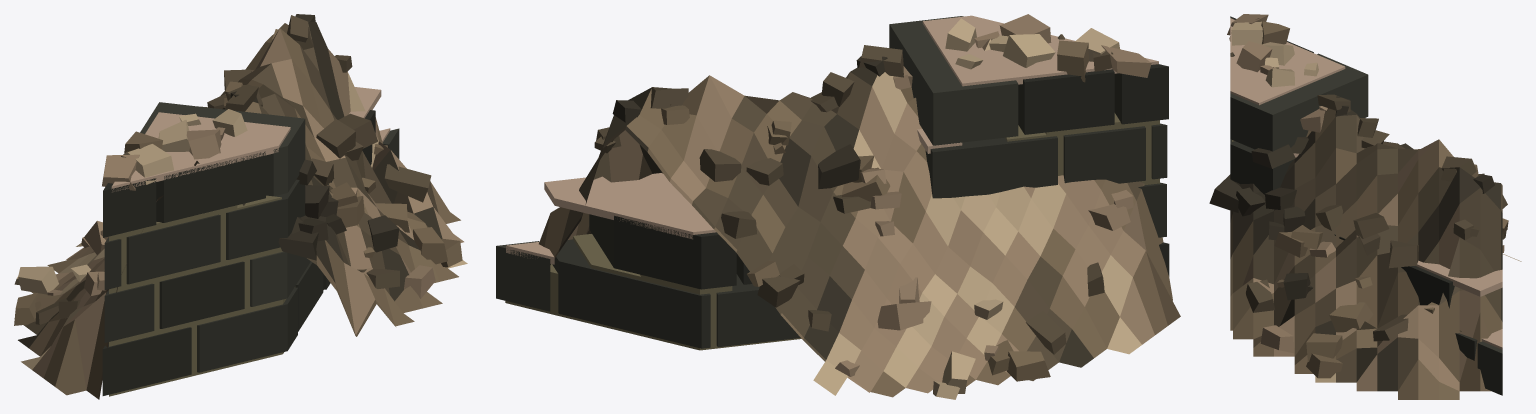
File: AraWall05a.glb
3 renders of one model, left to right at view 1: azimuth 30°, elevation 25°; view 2: azimuth 150°, elevation 25°; view 3: azimuth 270°, elevation 25°, orthographic. The views are drawn at different scales.
Parts seen in each view (by area): view 1: AraWall05a_mortar; view 2: AraWall05a_mortar; view 3: AraWall05a_mortar.
Part boxes in pixels (box(x1,y1,x2,y2)): AraWall05a_mortar: box(14, 14, 467, 399); AraWall05a_mortar: box(496, 14, 1180, 399); AraWall05a_mortar: box(1209, 14, 1521, 399).
Bounding box in the file's own units: 6.05 × 2.8 × 3.84.
